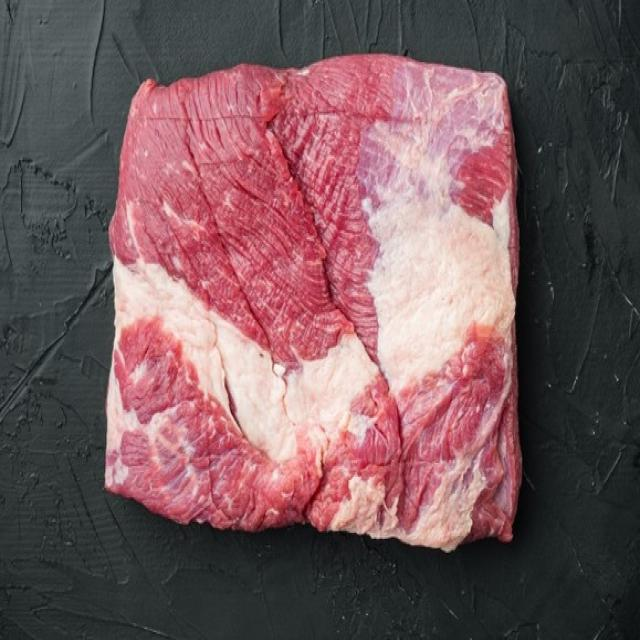beef: (136, 95, 486, 514)
